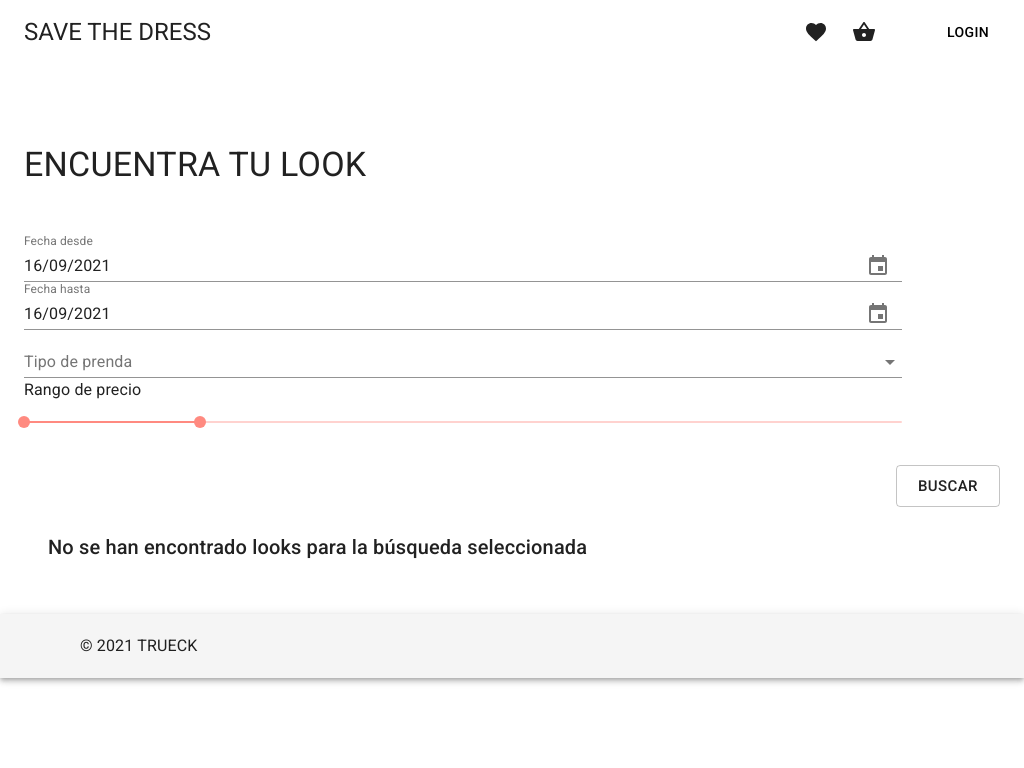
Test: App component › should render header and login component
This screenshot has width=1024, height=768.
Click the button with test id "header-loginButton" at point(968, 32), box [936,14,1000,50]
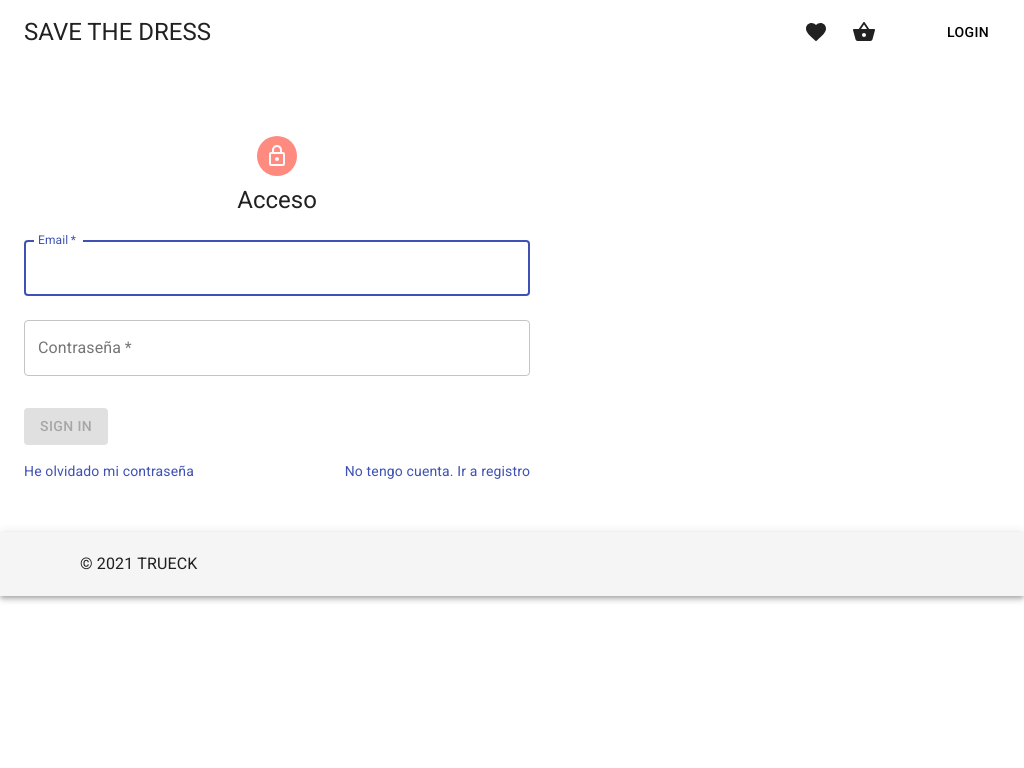
expect the heading "Acceso" is shown: met, box [237,184,317,216]
